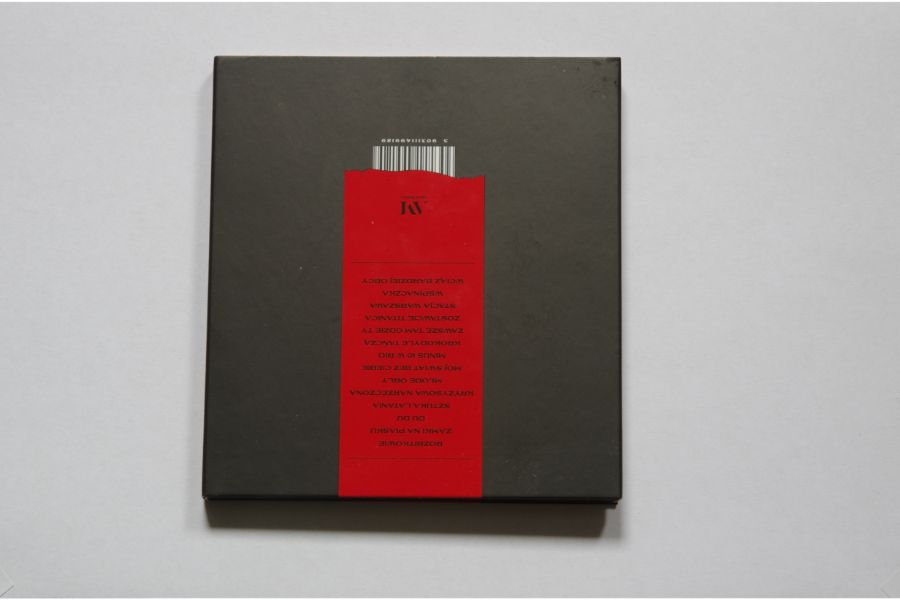album: (200, 55, 625, 505)
